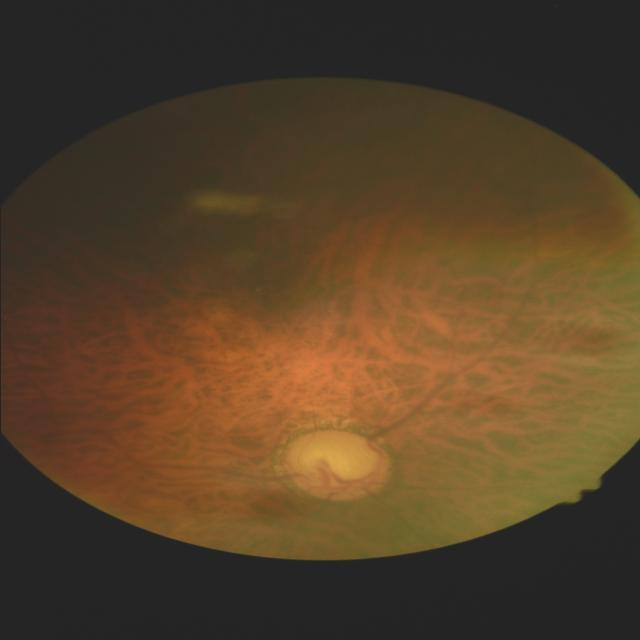cup: (295, 438, 379, 494)
disk: (279, 429, 392, 502)
